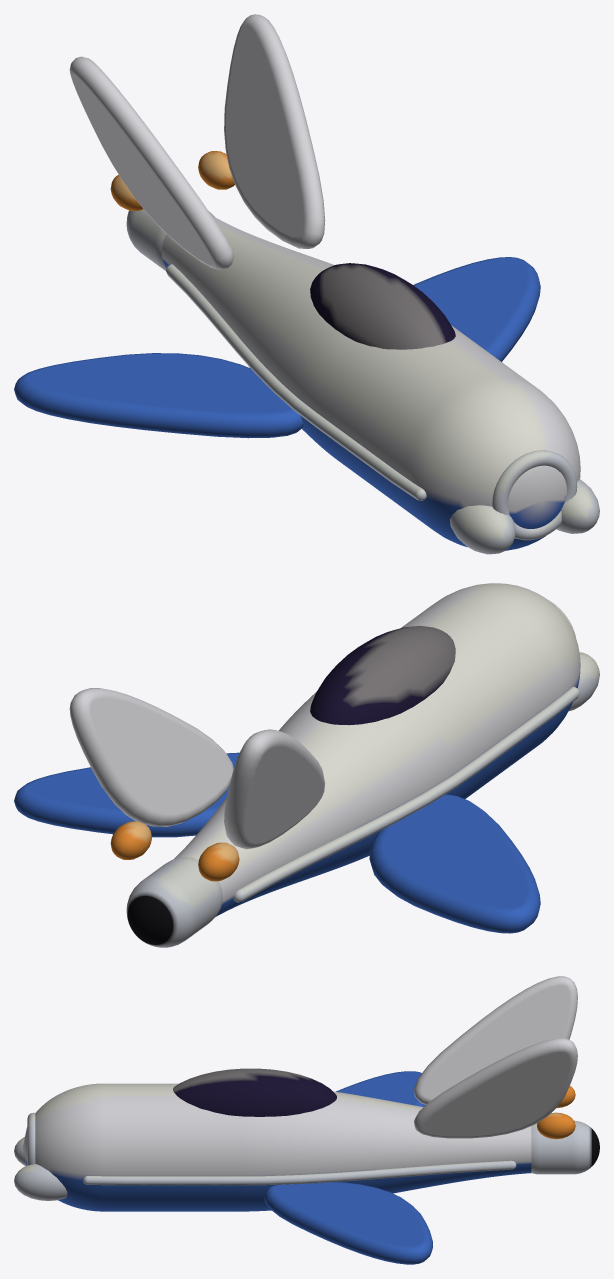
File: streamliner-starfighter-1.obj
3 views of the same model, one above another, from view 1: azimuth 30°, elevation 25°; view 2: azimuth 150°, elevation 25°; view 3: azimuth 270°, elevation 25° (orthographic). The views are drawn at different scales.
Parts seen in each view (by area): view 1: starfighter; view 2: starfighter; view 3: starfighter.
Part boxes in pixels (x1,y1,x2,y2): starfighter: (14,14,599,554); starfighter: (14,583,599,947); starfighter: (14,976,599,1264).
Bounding box in the file's own units: 177 × 89.69 × 241.
